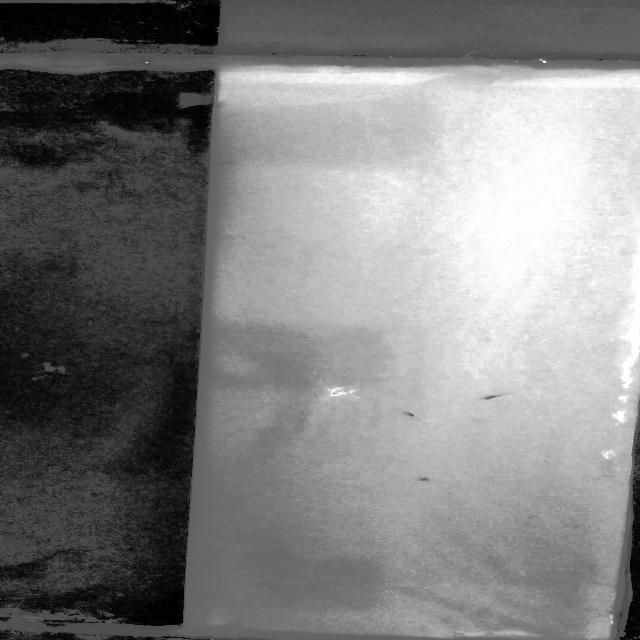shrimp: (394, 470, 449, 490), (464, 388, 514, 403), (397, 405, 422, 430)
